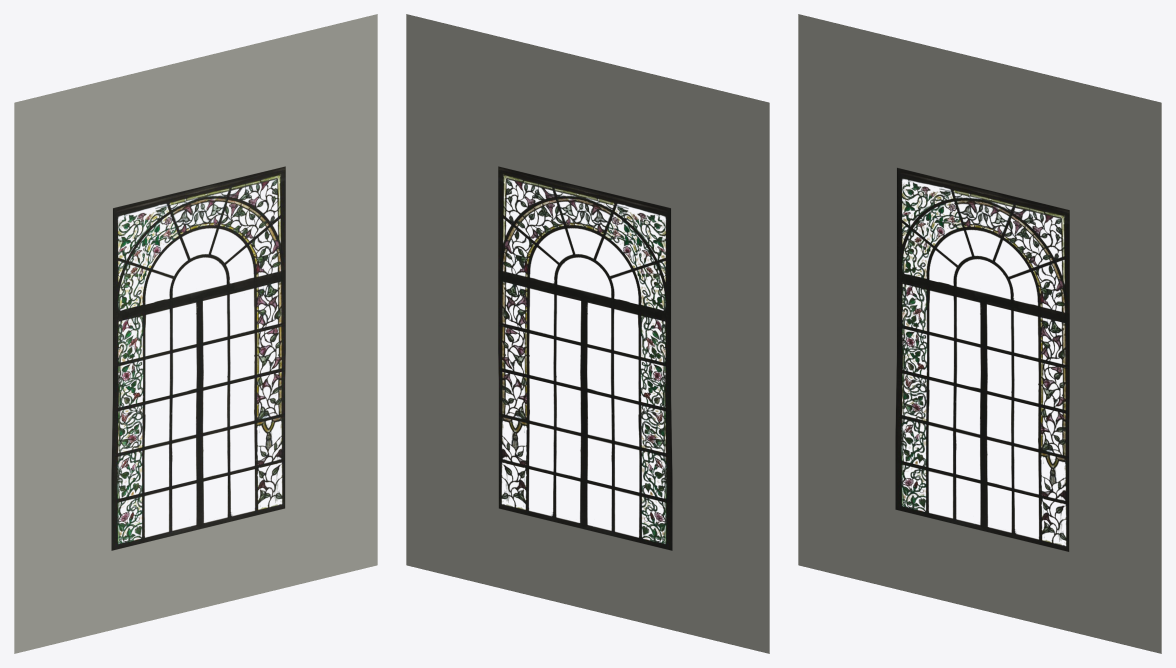
File: B_axis_collider_7.glb
3 renders of one model, left to right at view 1: azimuth 30°, elevation 25°; view 2: azimuth 150°, elevation 25°; view 3: azimuth 330°, elevation 25°, orthographic.
Parts seen in each view (by area): view 1: B_Axis_wall_collider.7; view 2: B_Axis_wall_collider.7; view 3: B_Axis_wall_collider.7.
Boxes of the visible parts, x1,y1,x2,y2 form: B_Axis_wall_collider.7: (14, 14, 377, 653); B_Axis_wall_collider.7: (406, 14, 769, 653); B_Axis_wall_collider.7: (798, 14, 1161, 653).
Size of the model in its own units: 4.01 by 5.81 by 0.
1 material, 1 textured.
